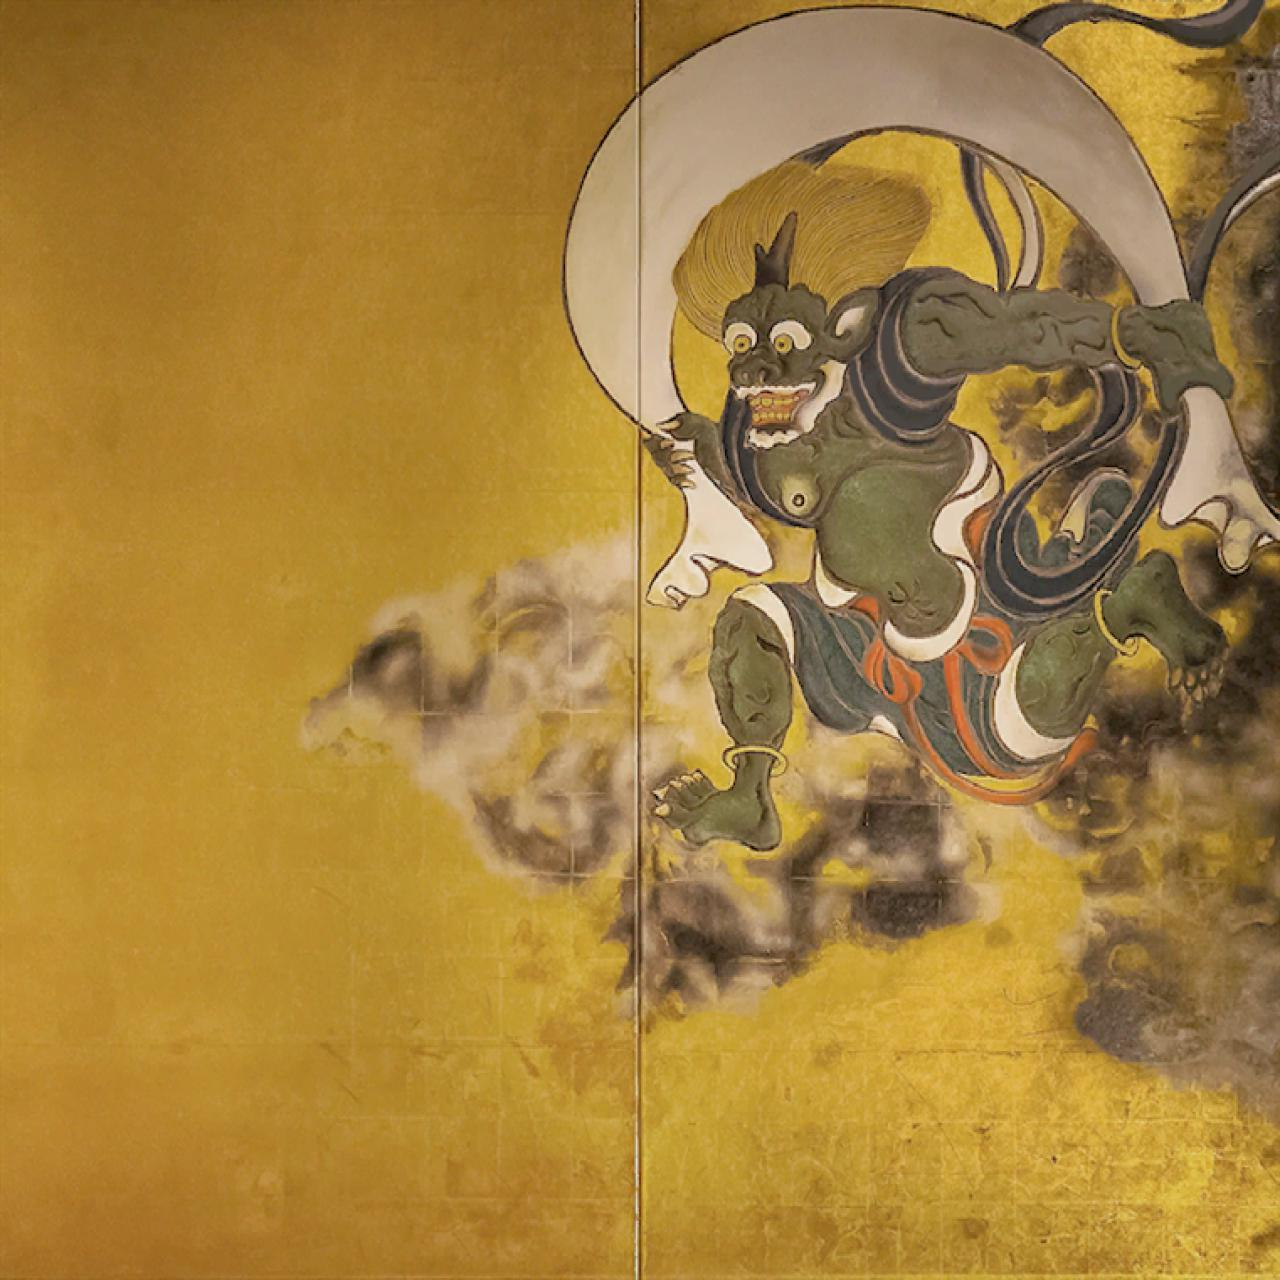Fuujin: (1, 1, 1280, 1280)
